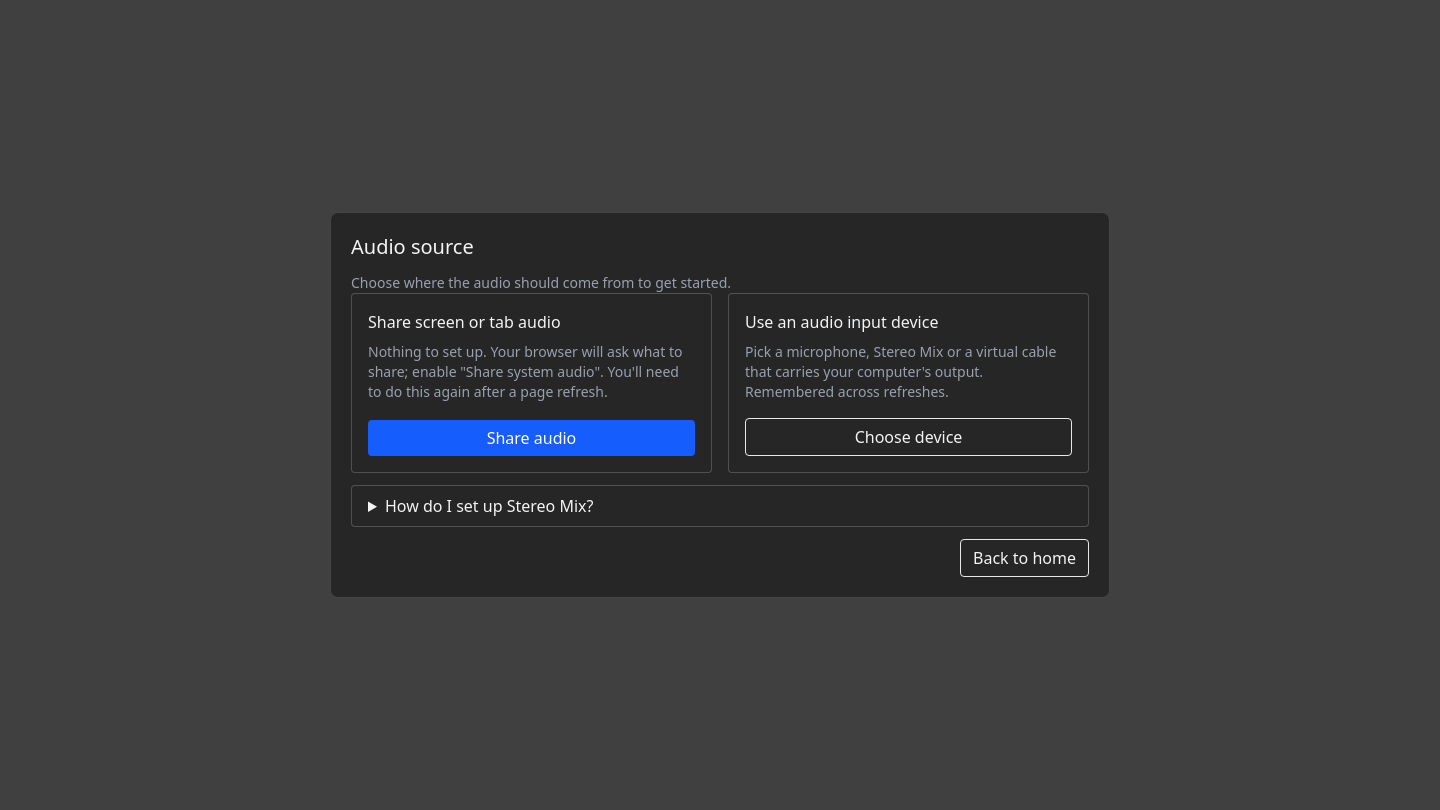
it: AudioSourceDialog › back to home › disappears once a source starts capturing
What coordinates should you click on to do the following:
click the button "Share audio"
I would click on:
 (532, 438)
Its box is x1=368 y1=420 x2=695 y2=456.
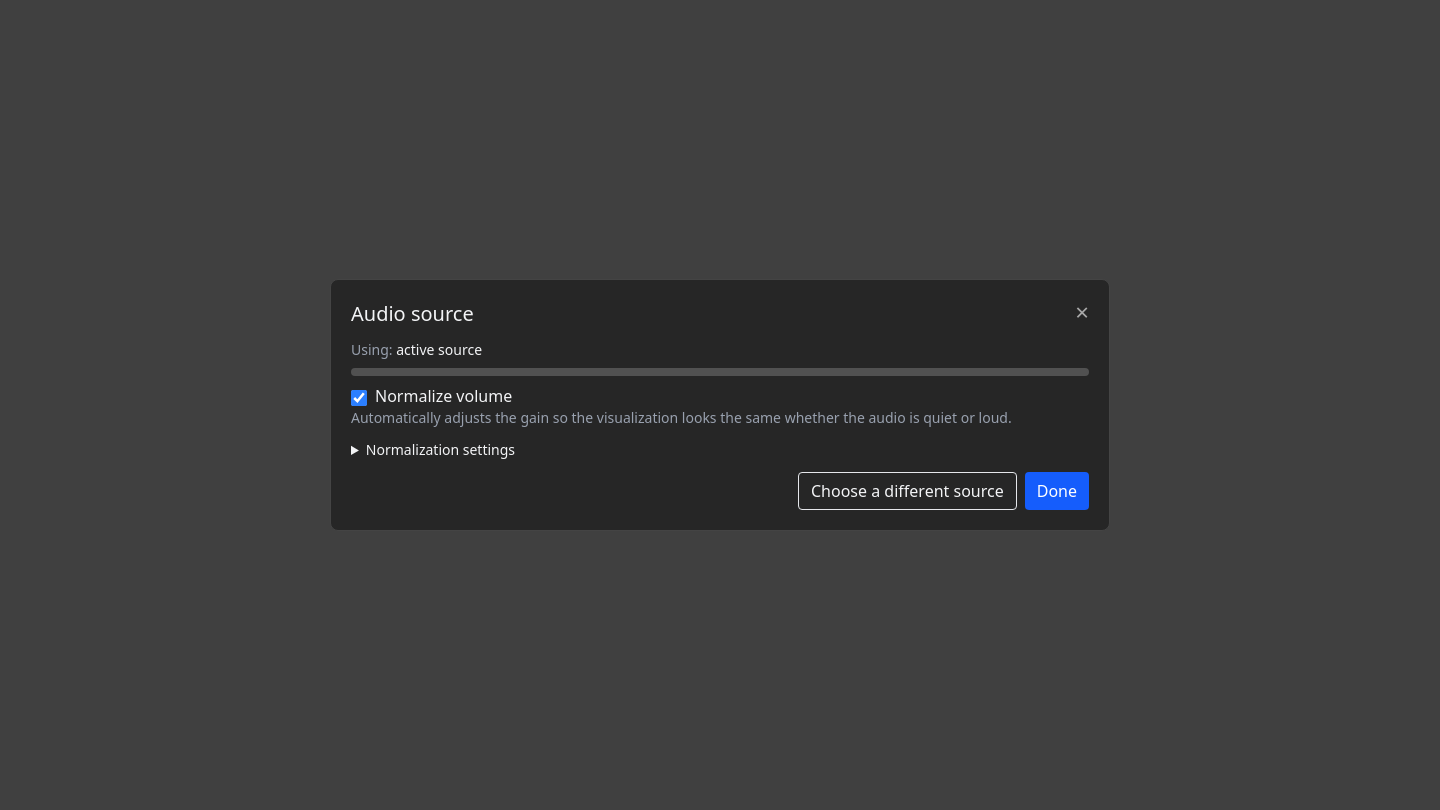
Expected: the button "Back to home" is gone
